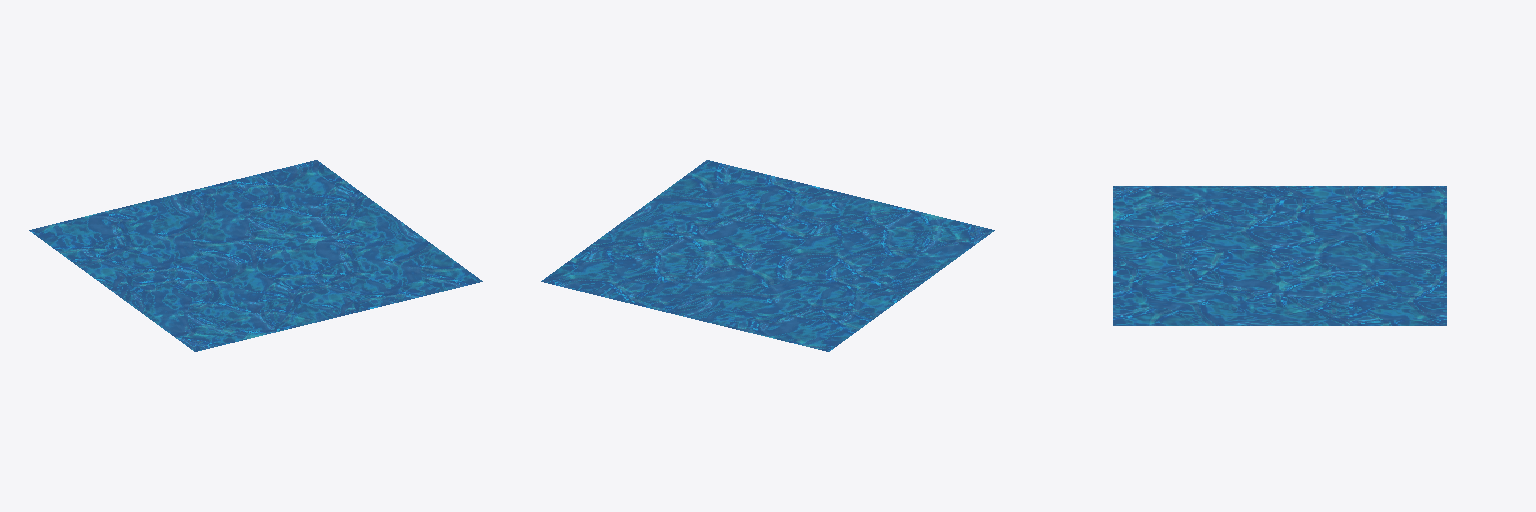
3 views of the same model, side by side, from view 1: azimuth 30°, elevation 25°; view 2: azimuth 150°, elevation 25°; view 3: azimuth 270°, elevation 25° (orthographic).
Parts seen in each view (by area): view 1: Plane; view 2: Plane; view 3: Plane.
Boxes of the visible parts, box(x1,y1,x2,y2) form: Plane: box(29, 160, 482, 351); Plane: box(541, 160, 994, 351); Plane: box(1113, 186, 1446, 325).
Bounding box in the file's own units: 2 × 0 × 2.
1 materials, 1 textured.